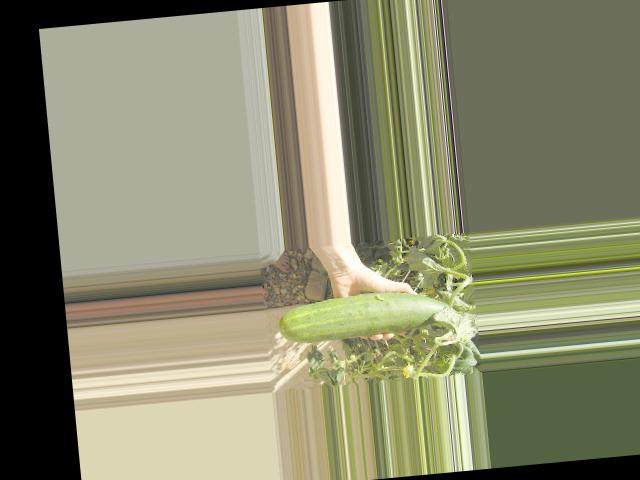cucumber: (276, 285, 453, 345)
